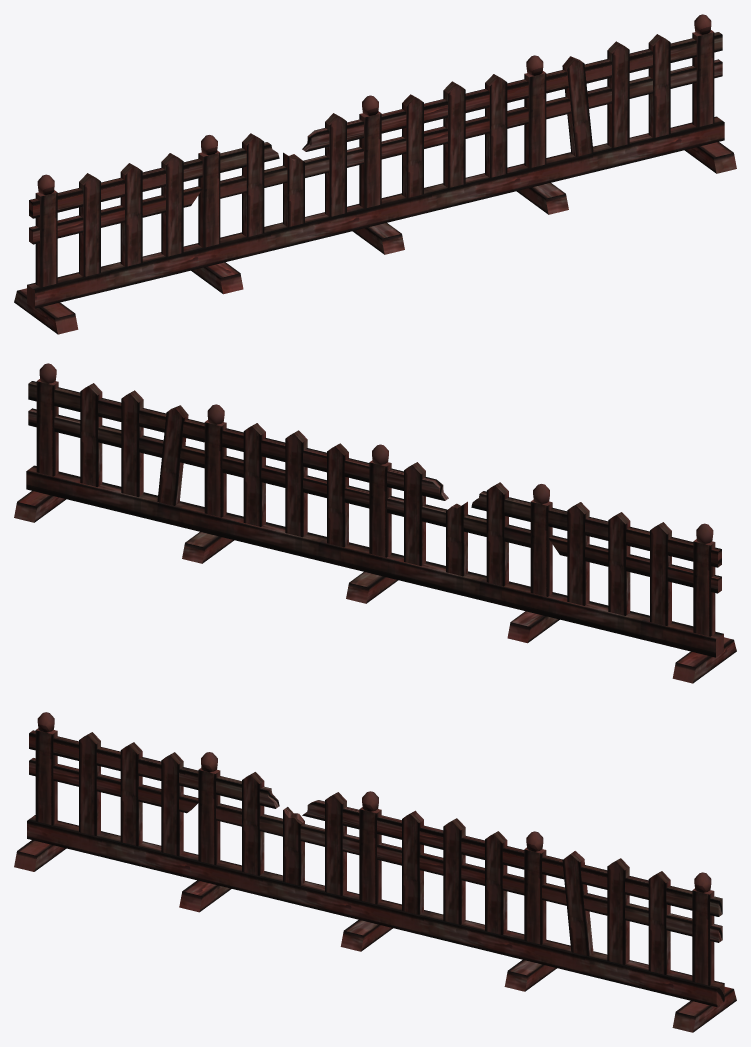
Rendered from STR_RailingWoodA.FBX.
The picture shows the model from 3 angles, top to bottom: view 1: azimuth 30°, elevation 25°; view 2: azimuth 150°, elevation 25°; view 3: azimuth 330°, elevation 25°; orthographic projection.
Parts seen in each view (by area): view 1: STR_RailingWoodA; view 2: STR_RailingWoodA; view 3: STR_RailingWoodA.
Part boxes in pixels (box(x1,y1,x2,y2)): STR_RailingWoodA: box(14, 14, 736, 334); STR_RailingWoodA: box(14, 363, 736, 683); STR_RailingWoodA: box(14, 712, 736, 1032).
Size of the model in its own units: 772 by 151 by 85.27.
1 material, 1 textured.
